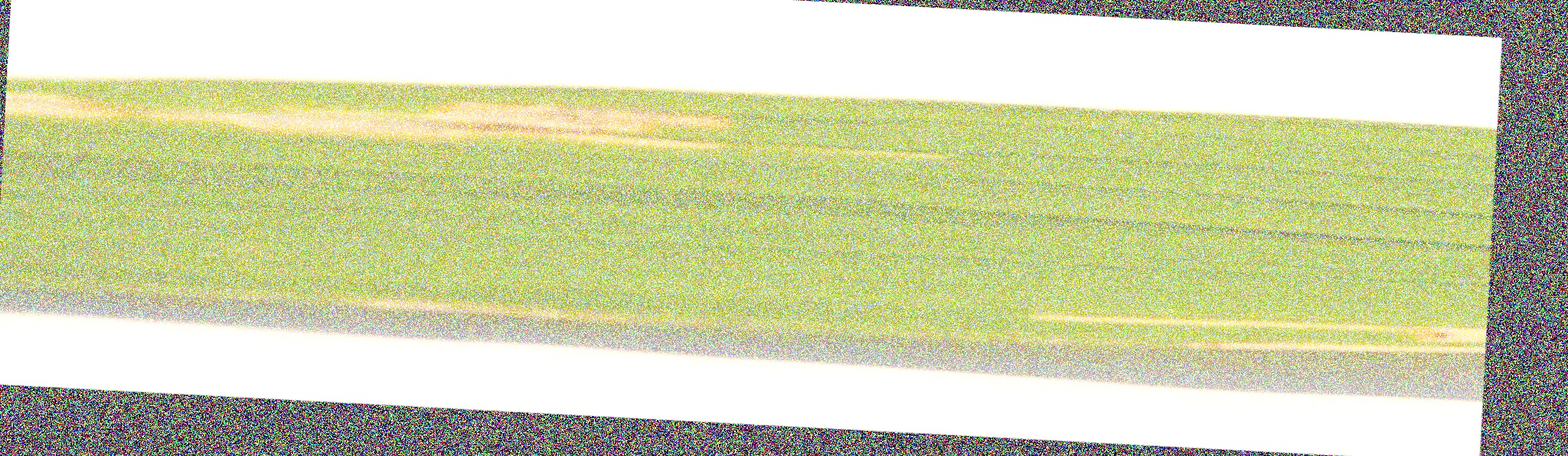Leaf_Blast: (0, 75, 1038, 169), (995, 289, 1485, 412)
